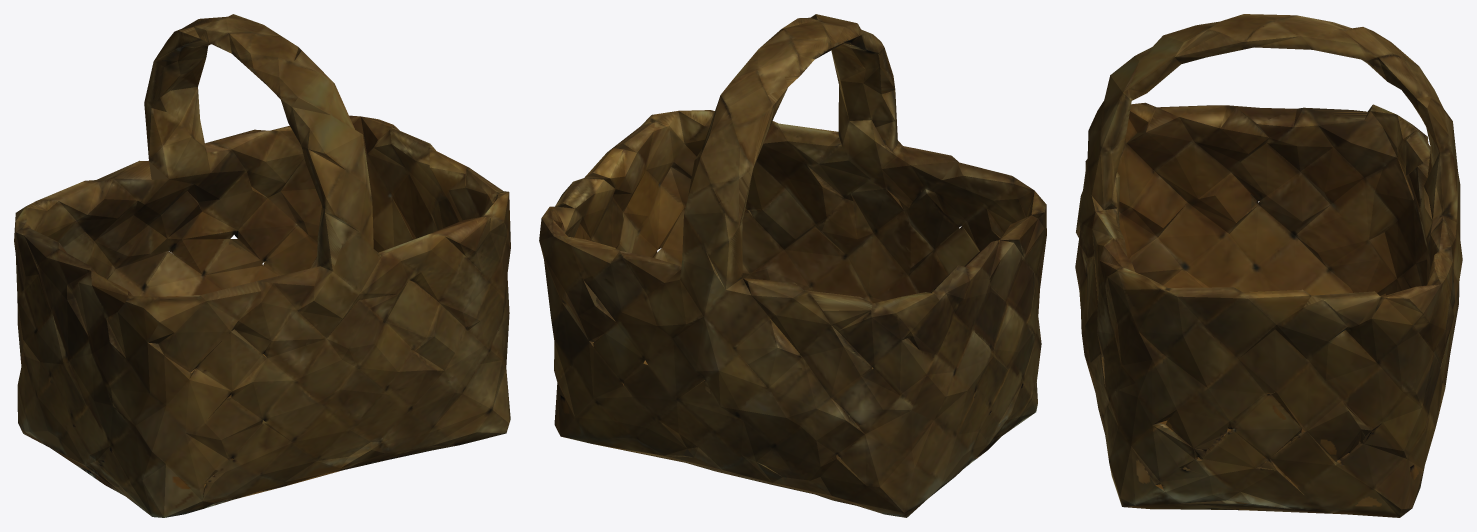
The model's file is handbag_large.dae.
3 views of the same model, side by side, from view 1: azimuth 30°, elevation 25°; view 2: azimuth 150°, elevation 25°; view 3: azimuth 270°, elevation 25° (orthographic). The views are drawn at different scales.
Parts seen in each view (by area): view 1: Handbag_large_001; view 2: Handbag_large_001; view 3: Handbag_large_001.
Boxes of the visible parts, x1,y1,x2,y2 form: Handbag_large_001: (14, 14, 510, 517); Handbag_large_001: (539, 14, 1046, 517); Handbag_large_001: (1075, 14, 1462, 517).
Bounding box in the file's own units: 0.3071 × 0.2504 × 0.2931.
Materials: 1 (1 with a texture image).
